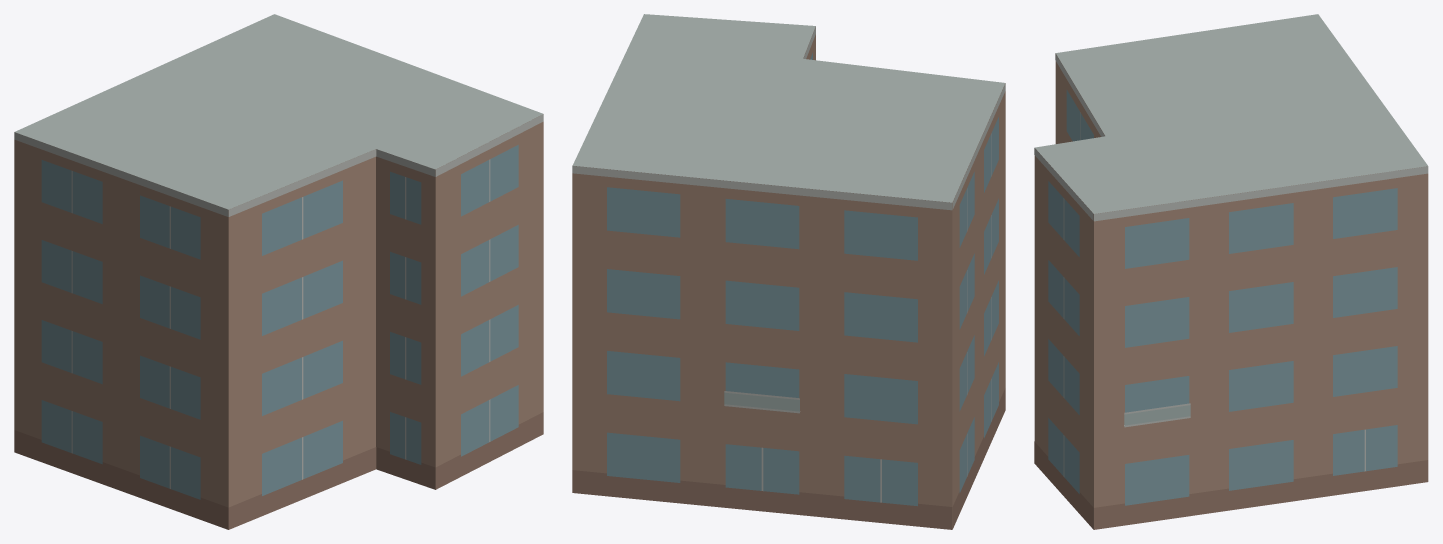
Rendered from survey-upis-32569896.glb.
3 renders of one model, left to right at view 1: azimuth 30°, elevation 25°; view 2: azimuth 150°, elevation 25°; view 3: azimuth 270°, elevation 25°, orthographic. The views are drawn at different scales.
Visible parts, largest first — view 1: survey-upis-32569896.tmp; view 2: survey-upis-32569896.tmp; view 3: survey-upis-32569896.tmp.
Boxes of the visible parts, left/top/right/bottom form: survey-upis-32569896.tmp: left=14, top=14, right=543, bottom=529; survey-upis-32569896.tmp: left=572, top=14, right=1005, bottom=529; survey-upis-32569896.tmp: left=1034, top=14, right=1428, bottom=529.
Size of the model in its own units: 14.14 by 10.4 by 11.76.
